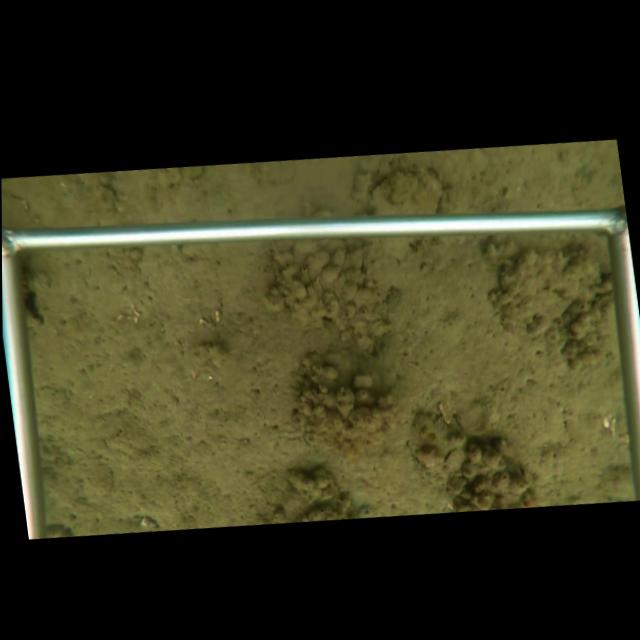Oyster-Indeterminate: (486, 241, 602, 338), (370, 166, 447, 216)
